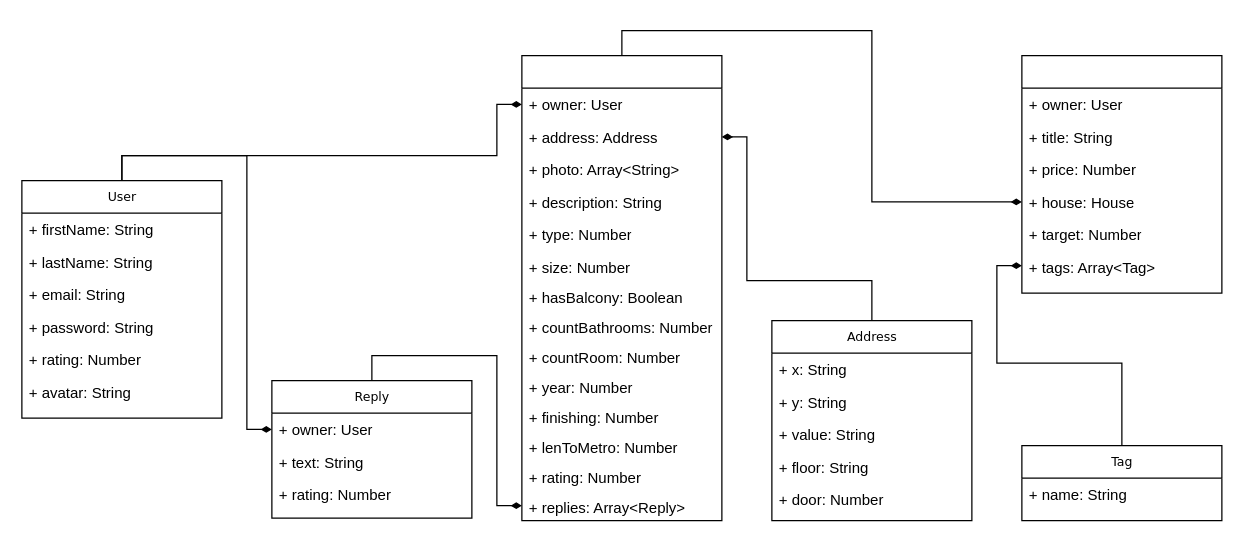
The diagram is 1244 pixels wide and 546 high, and some of its shapes have lost their labels. Each missing label, with the box of its shape:
Advertisement: (1021, 54, 1222, 293)
House: (521, 54, 722, 521)
